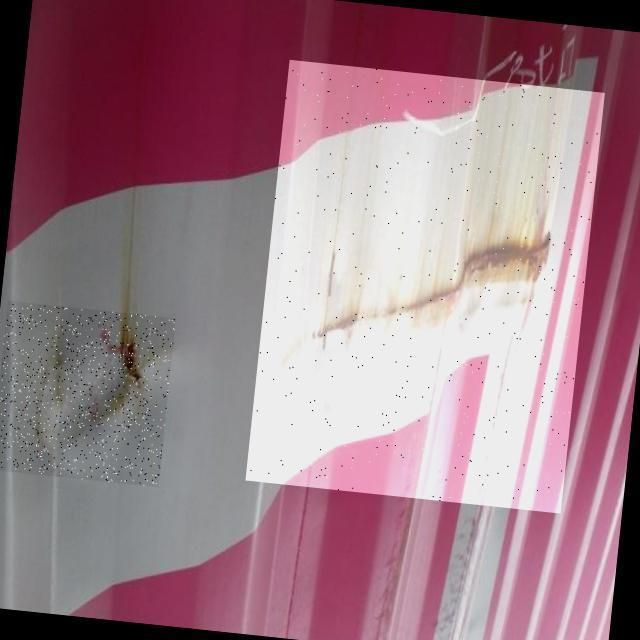dent: (246, 60, 605, 514), (1, 301, 176, 488)
